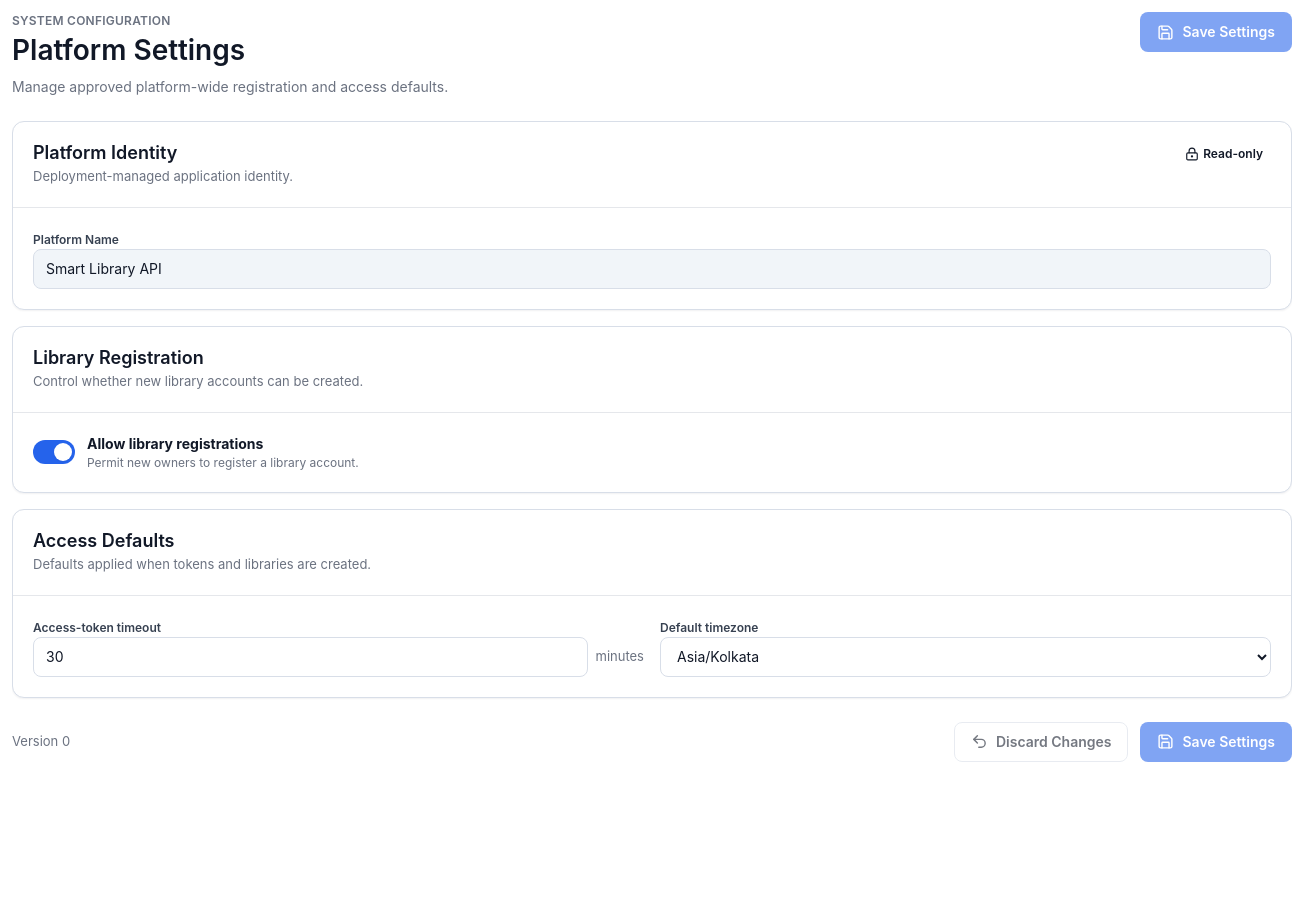
it: Super Admin Platform Settings › validates fields and saves typed settings with the loaded version
The image size is (1304, 912).
Replace the text in the number field with id "session-timeout" with "10" at [310, 657], box [33,637,588,677]
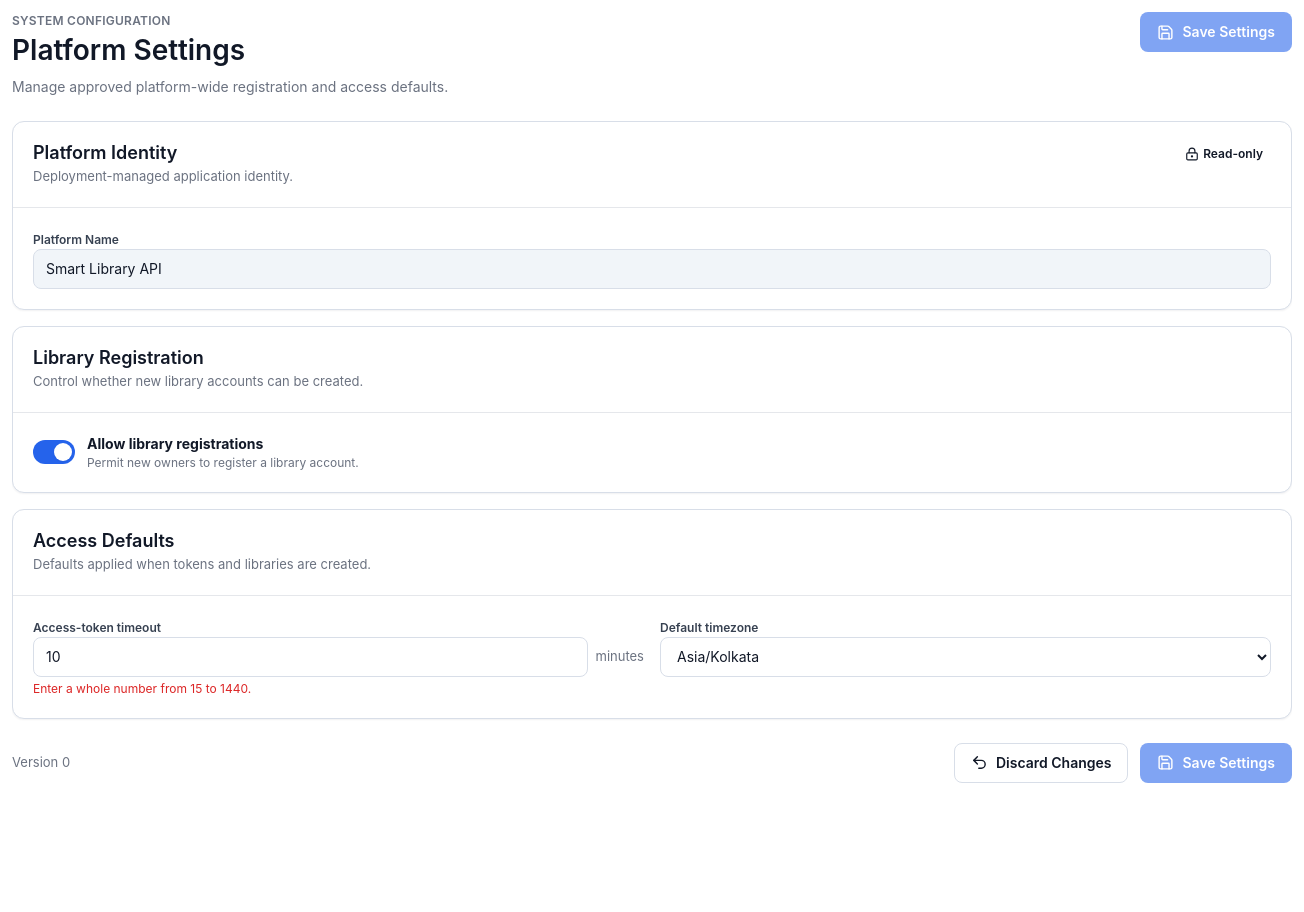
Result: the text "Enter a whole number from 15 to 1440." is shown at [33,681,251,696]
Replace the text in the number field with id "session-timeout" with "90" at [310, 657], box [33,637,588,677]
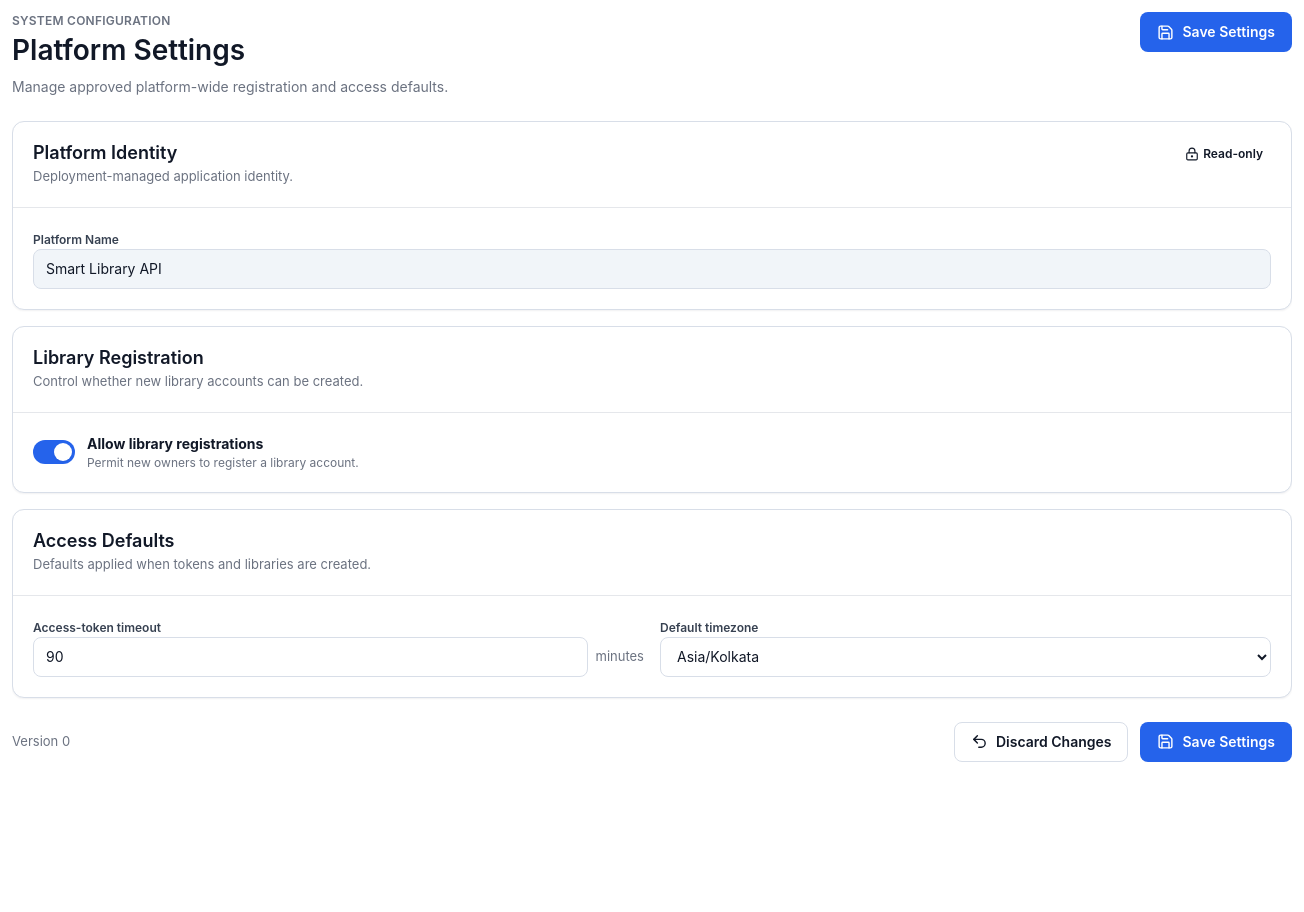
Select "UTC" in the dropdown labelled "Default timezone" at [966, 657], box [660,637,1271,677]
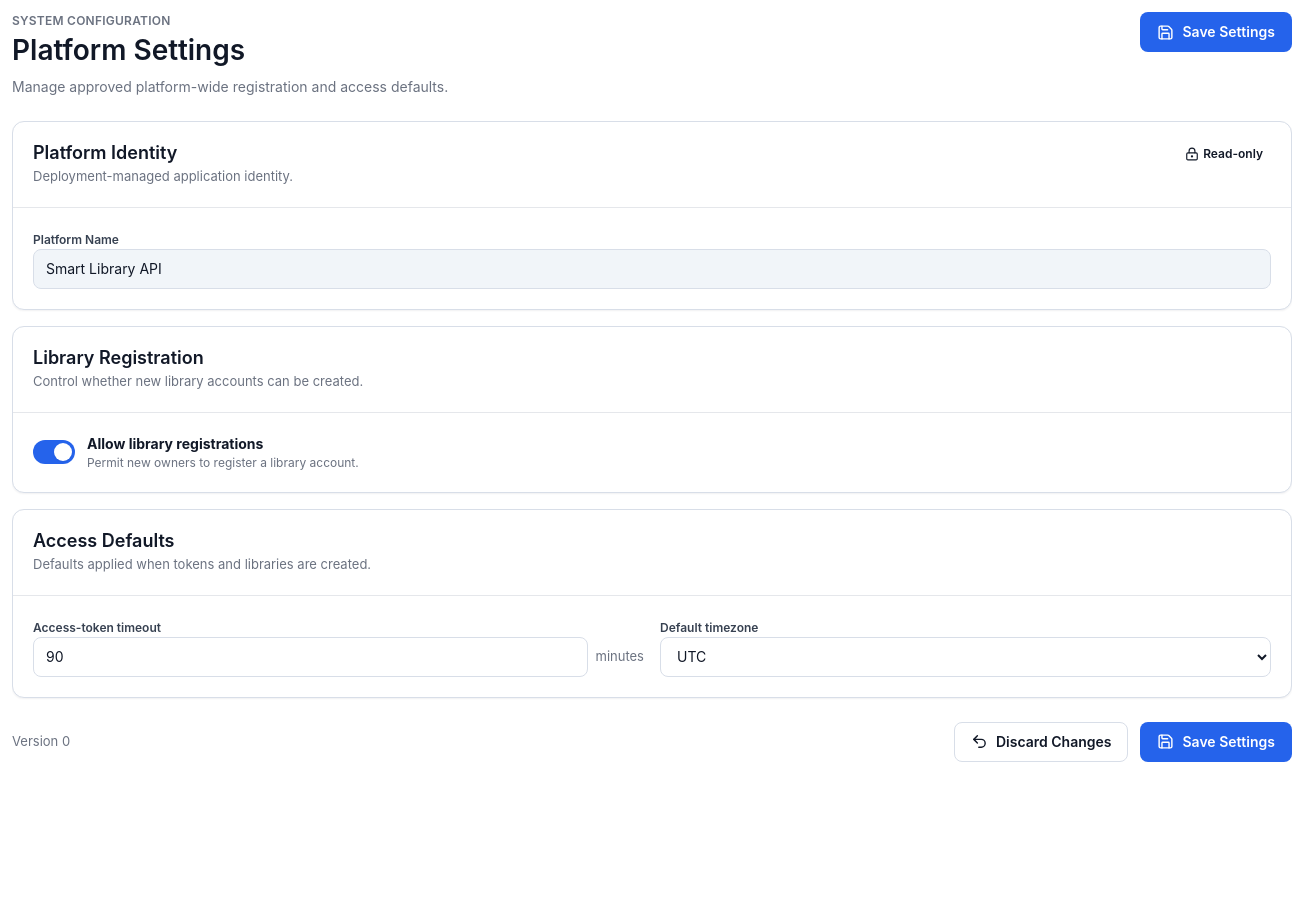
Submit the form
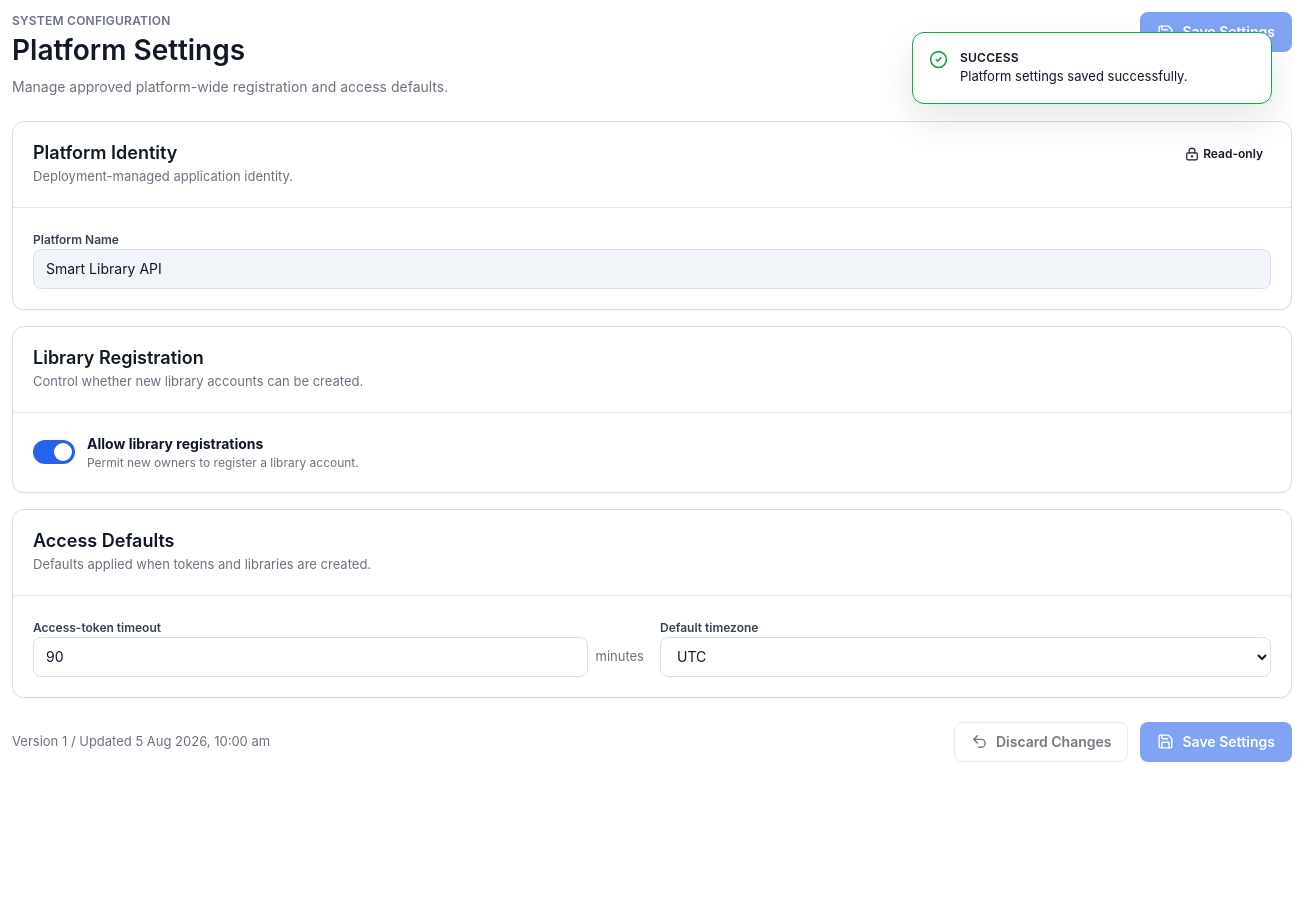
Result: the text "Platform settings saved successfully." is shown at [960,67,1188,86]
Result: the text "Version 1" is shown at [12,733,71,749]
